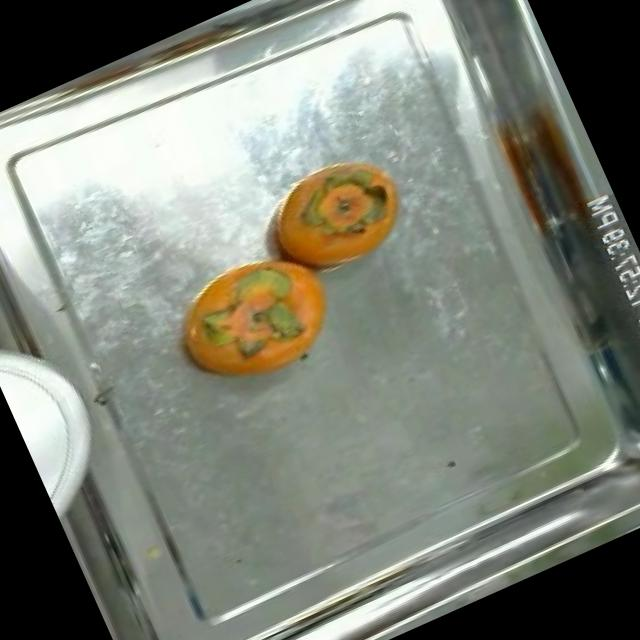Fruit: (149, 224, 363, 416), (234, 129, 432, 302)
